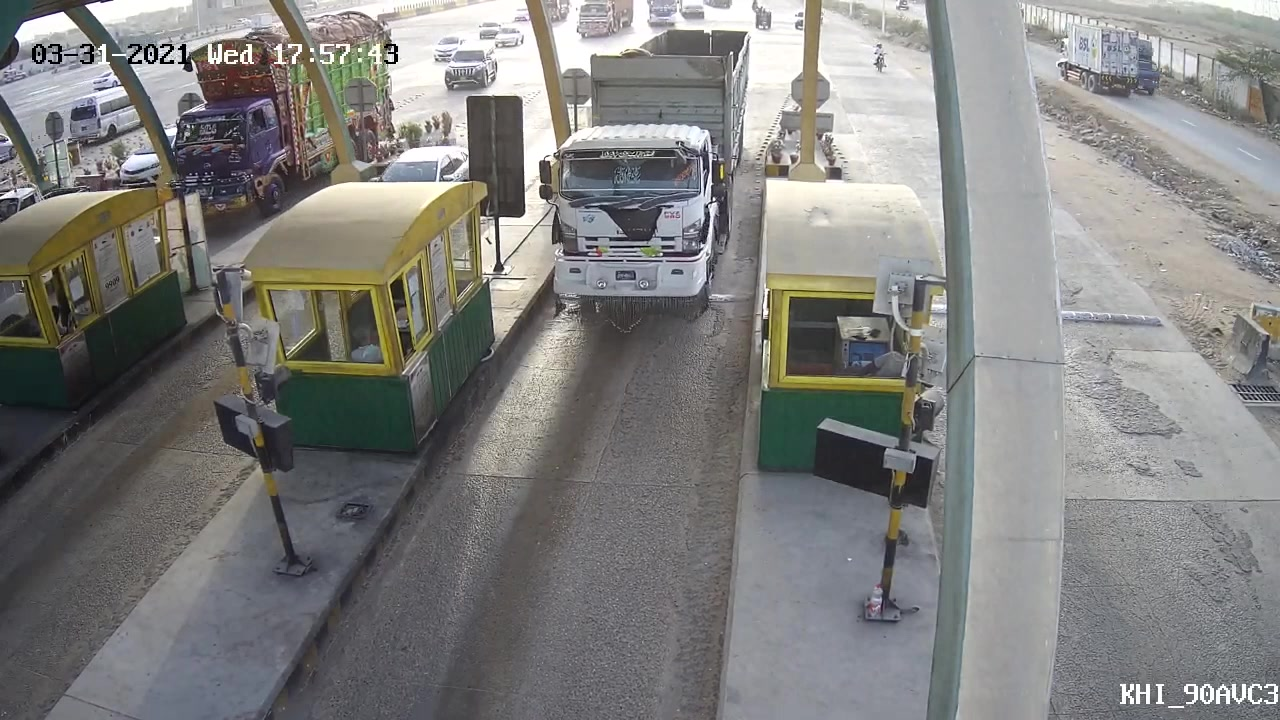F5: (522, 28, 763, 339)
